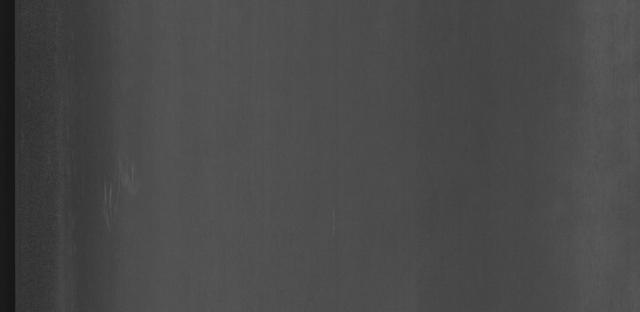silk_spot: (83, 126, 149, 236)
